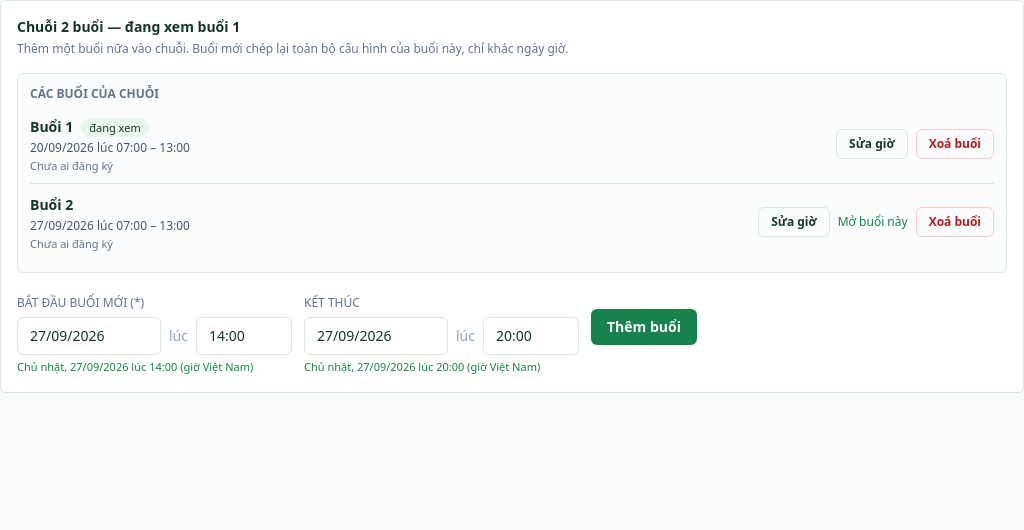
Test case: ô sửa giờ › gửi kèm id của CHÍNH buổi đó, không phải buổi đang mở
# Mở ô của buổi 2 — buổi không phải buổi đang xem.
Click the button "Sửa giờ" next to "Mở buổi này".
click(794, 222)  # box [758,207,830,237]
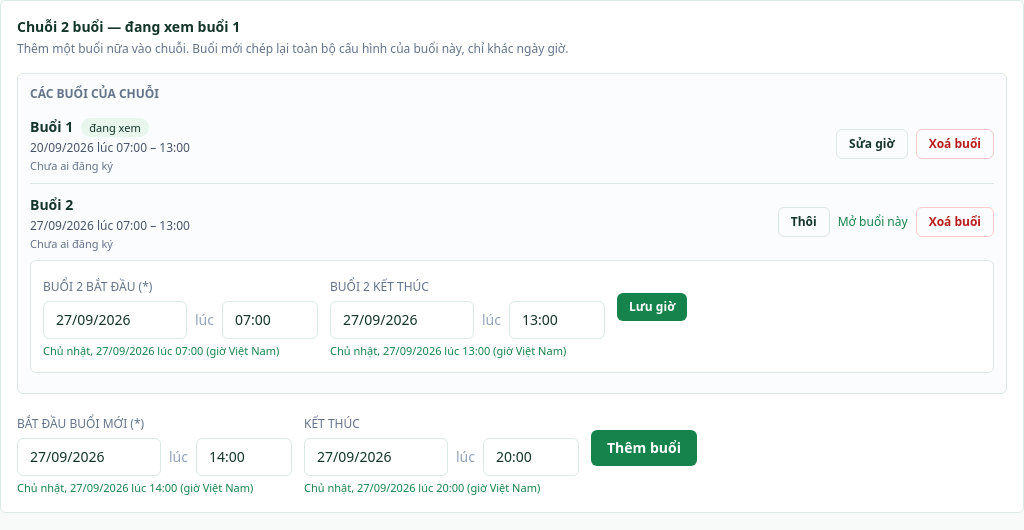
Now the form named "session_id" holds "s2", box [30,260,994,372]
